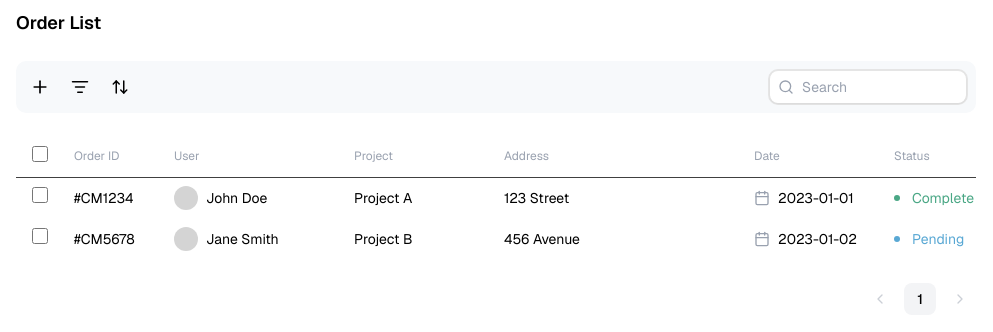
Test: OrdersList Page › filters orders by search query
Type "John" into the field with placeholder "Search".
click(868, 87); type("John")  # box [770,71,966,103]
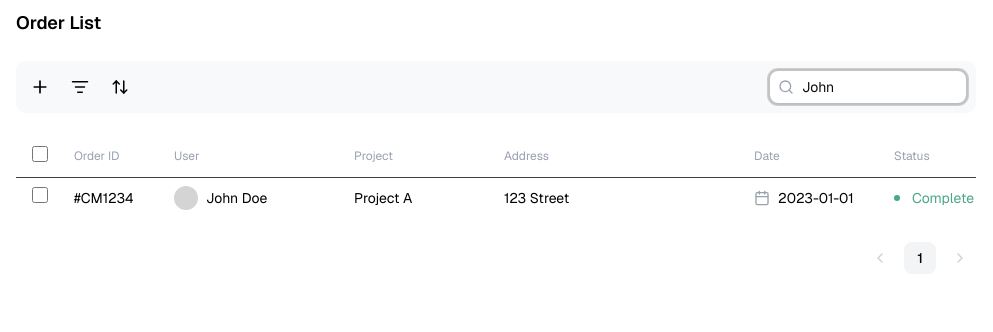
Expected: the text "John Doe" is shown, [206,188,267,208]
Expected: the text "Jane Smith" is gone
